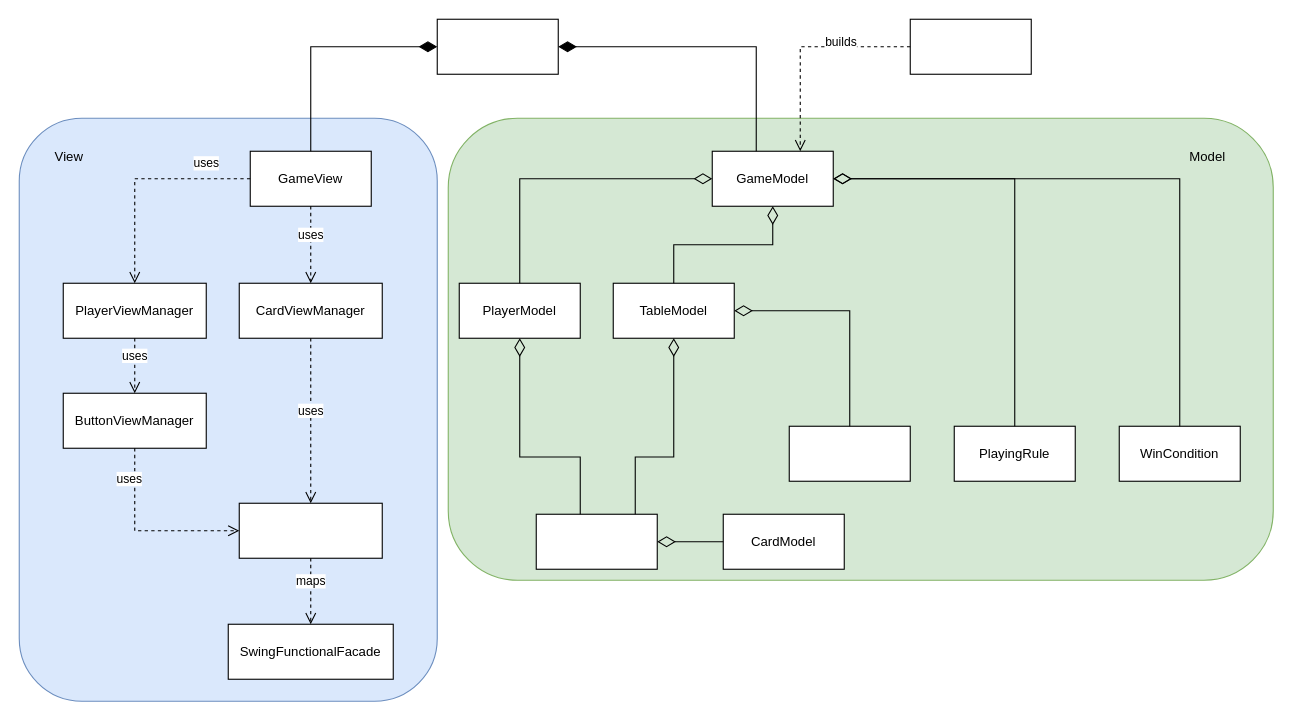
Some shapes in this 1293 by 721 pixel diagram are drawn without their labels. Here are the shapes that lost their labels. From the top down, the centre of each, then its label:
[497,46]: GameController
[970,46]: GameBuilder
[849,453]: HandRule
[310,530]: WindowState
[596,541]: DeckModel
